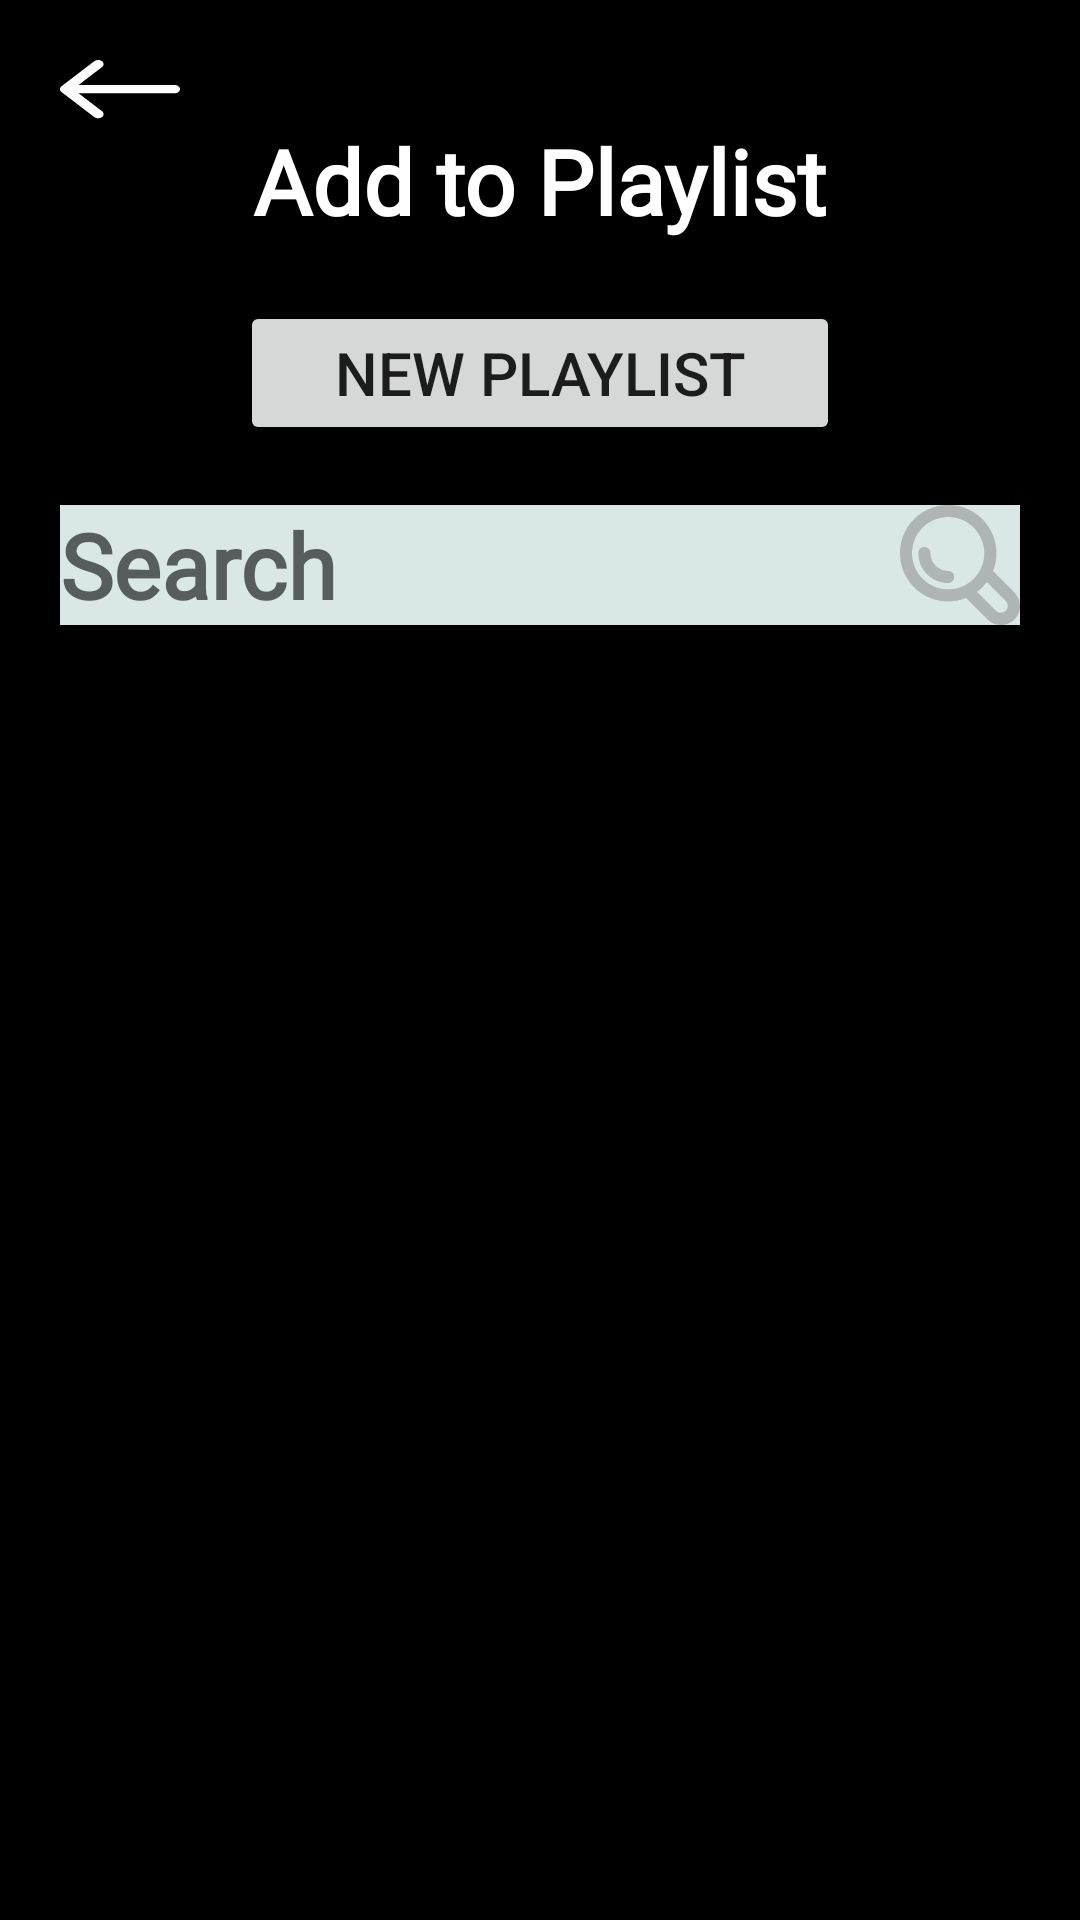

Where icons sit on this 1080×1920 app screen, as (x1, y1, x2, y2):
arrowleft: (60, 60, 180, 119)
